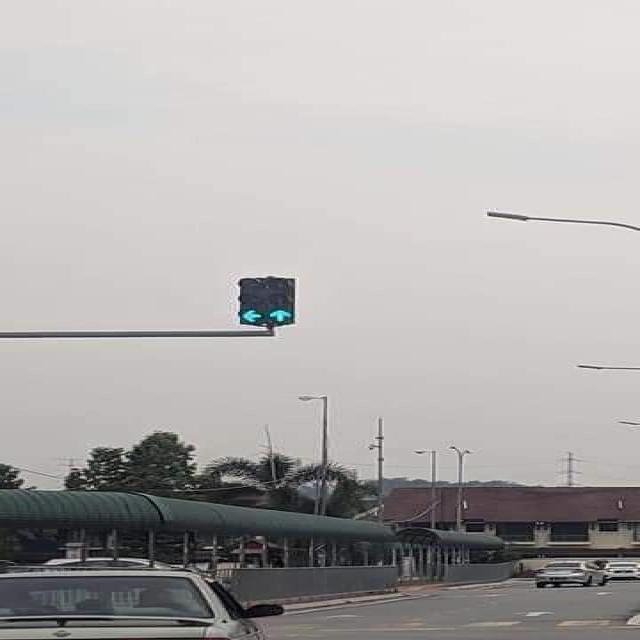green_light: (238, 277, 268, 325), (266, 278, 294, 324)
